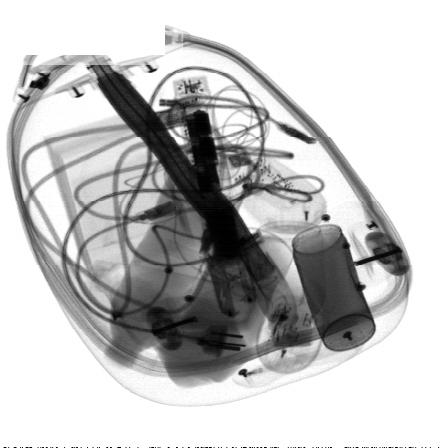Baton: (173, 75, 257, 317)
